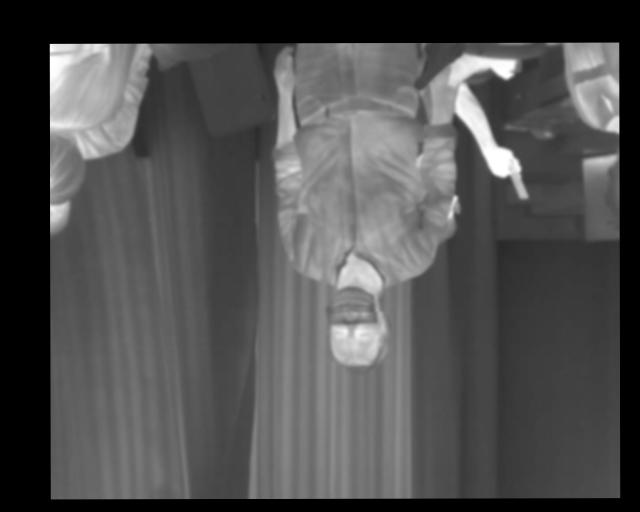face: (325, 286, 390, 373)
